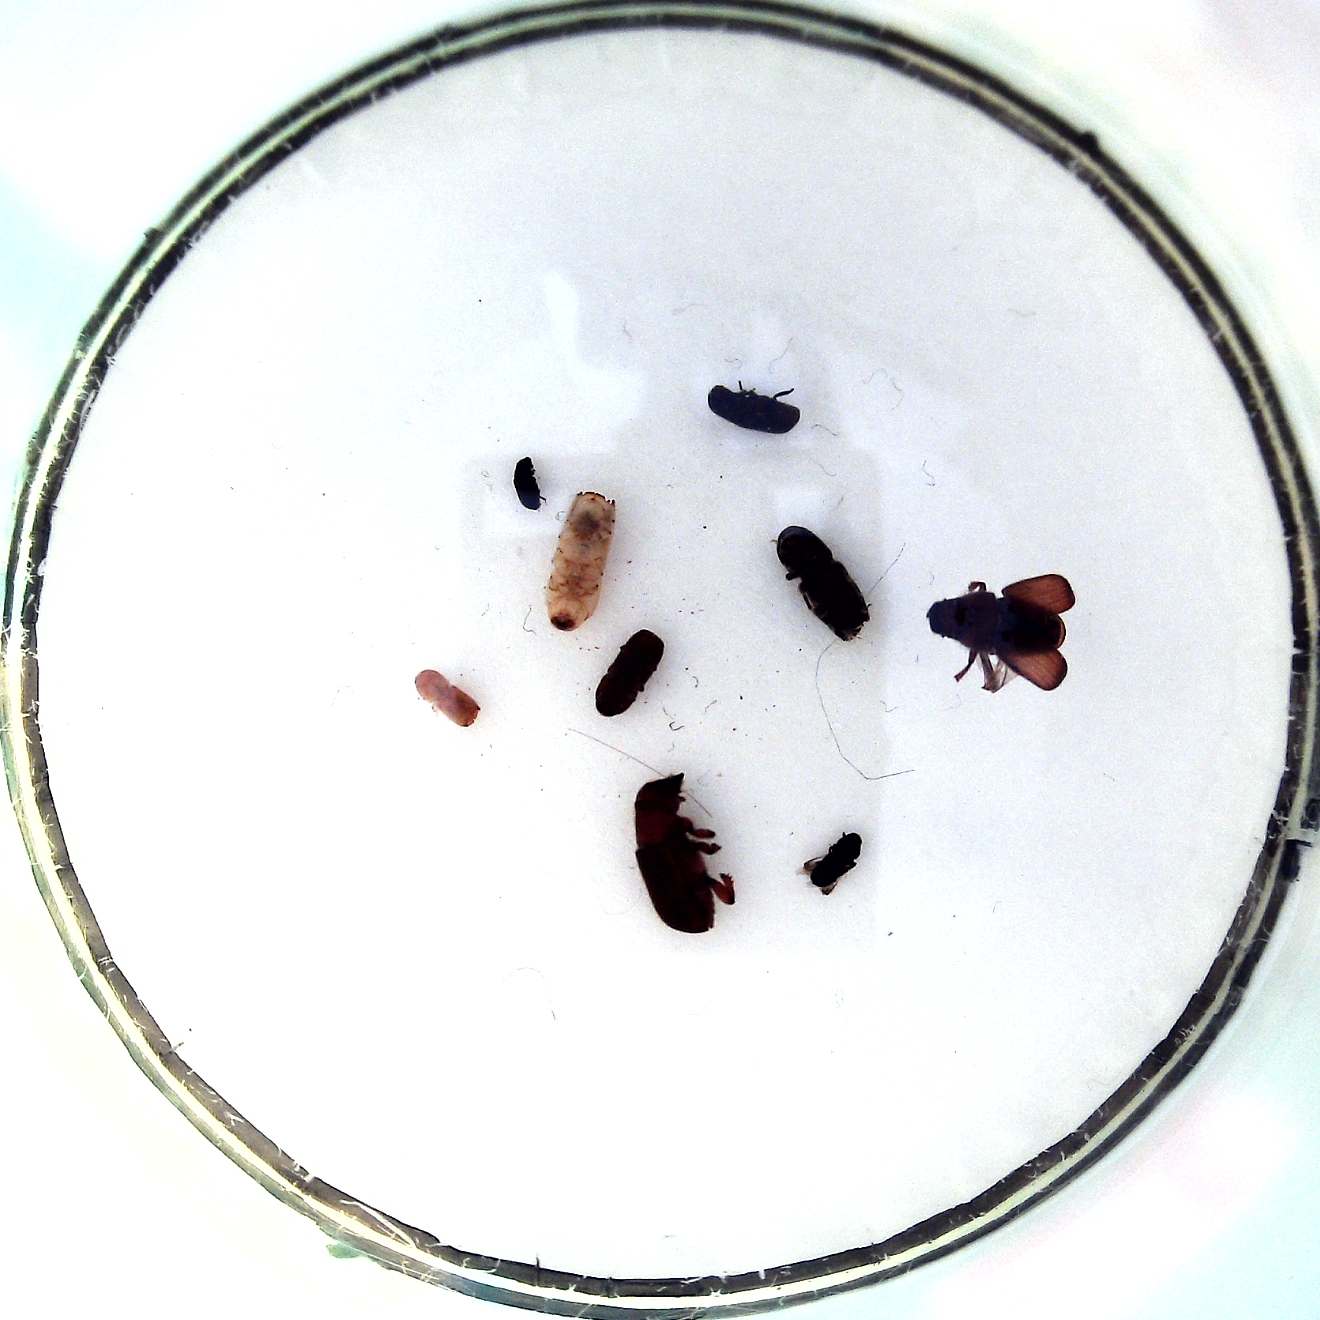Boerner: (538, 486, 625, 636)
Leconte: (920, 571, 1084, 697), (630, 769, 739, 938), (771, 515, 874, 648)
Linnaeus: (590, 627, 672, 720)
acuminatus: (410, 664, 485, 735)
armandi: (702, 377, 812, 442)
coleoptera: (792, 824, 867, 902), (506, 453, 552, 517)
